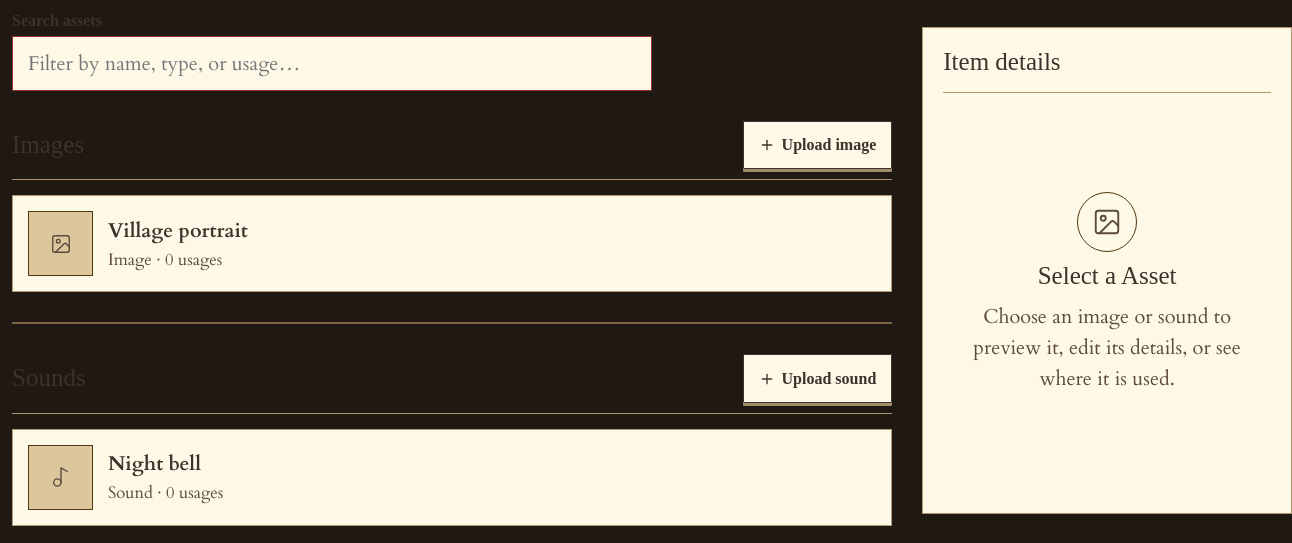
MediaLibrary › uses one search field to filter images and sounds together
Type "night" into the field labelled "Search assets" at point(332, 64), box [12,36,652,91]
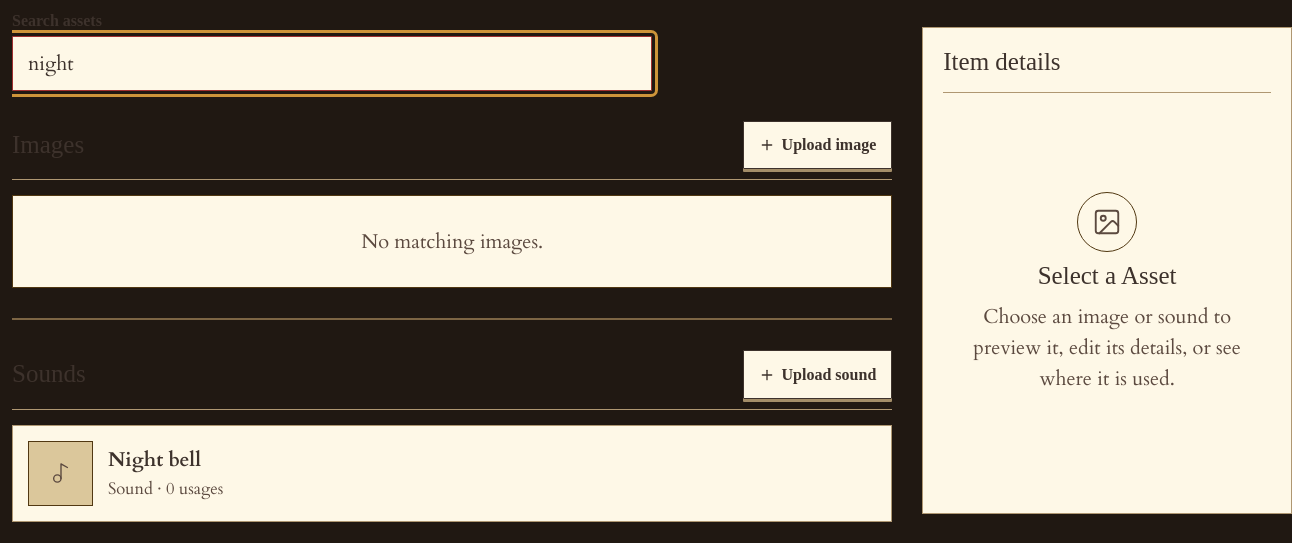
Expected: the button "Night bell Sound · 0 usages" is shown, [12,425,892,522]
Now the button "Village portrait" is gone
Now the text "No matching images." is shown, box [12,195,892,288]
